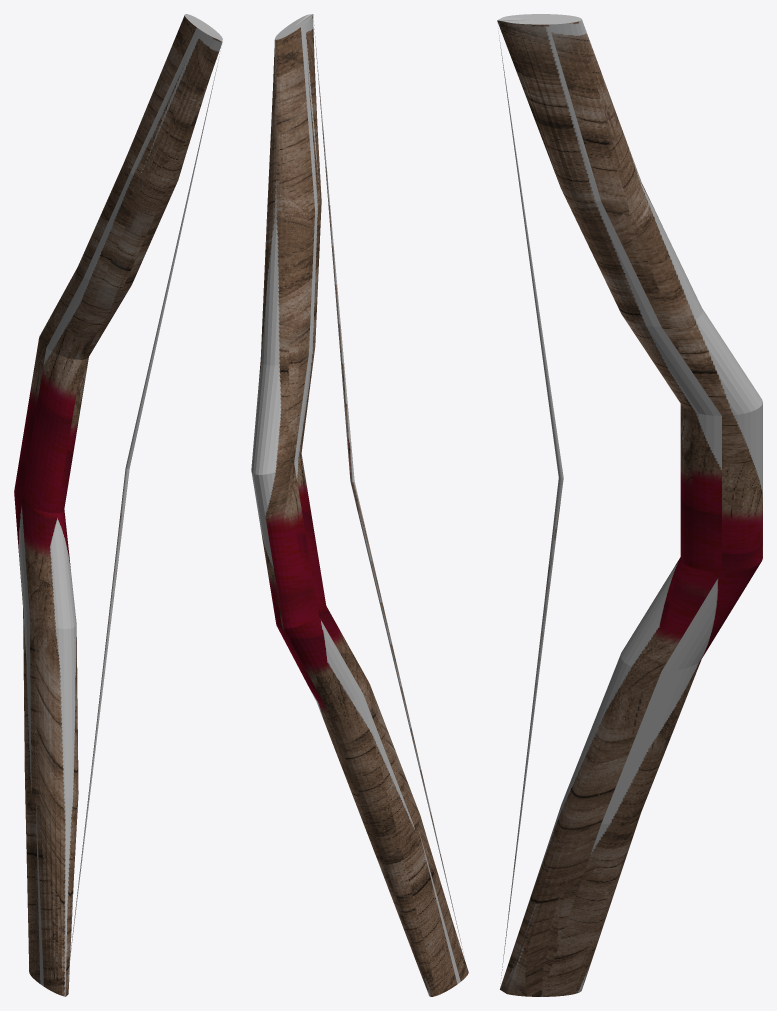
File: Protagonista124.obj
3 views of the same model, side by side, from view 1: azimuth 30°, elevation 25°; view 2: azimuth 150°, elevation 25°; view 3: azimuth 270°, elevation 25° (orthographic). The views are drawn at different scales.
Parts seen in each view (by area): view 1: Cilindro; view 2: Cilindro; view 3: Cilindro.
Part boxes in pixels (x1,y1,x2,y2): Cilindro: [14, 14, 222, 996]; Cilindro: [251, 14, 468, 996]; Cilindro: [497, 14, 762, 996].
Bounding box in the file's own units: 0.1877 × 0.9705 × 0.2204.
1 material, 1 textured.
